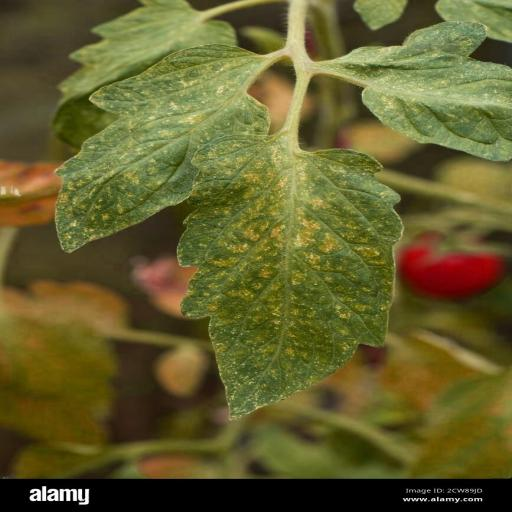Spider Mites: (173, 132, 405, 423), (54, 44, 272, 254), (333, 21, 512, 163)
